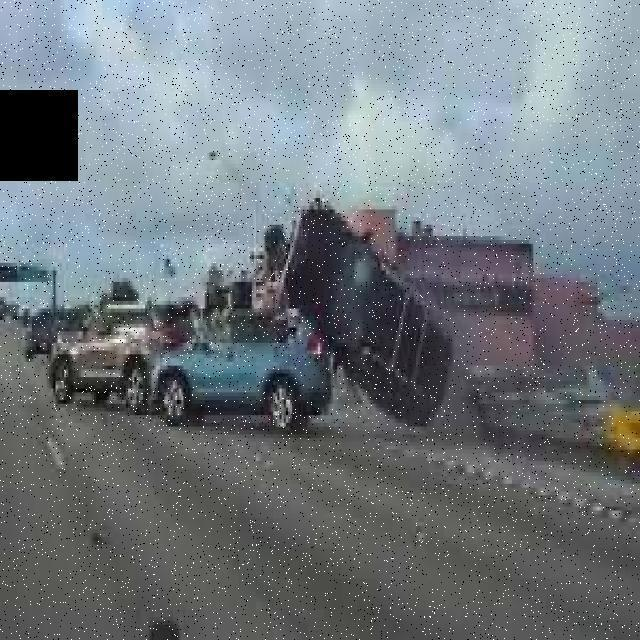multiple_accident: (45, 205, 470, 433)
